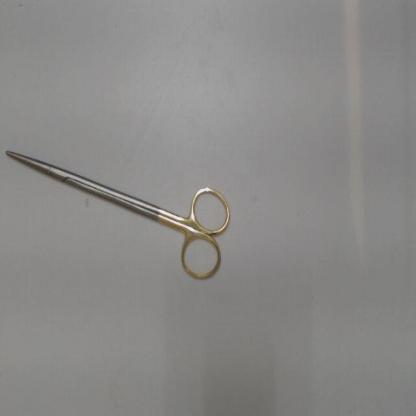7 Metzenbaum Scissors: (3, 146, 235, 289)
